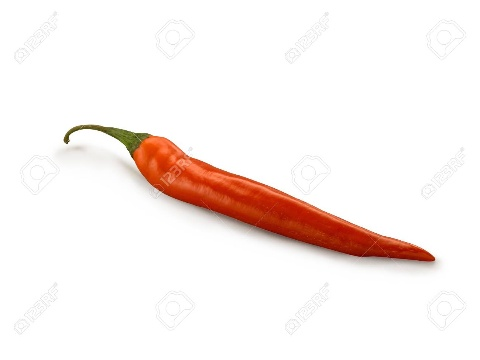Chilli: (54, 102, 446, 307)
